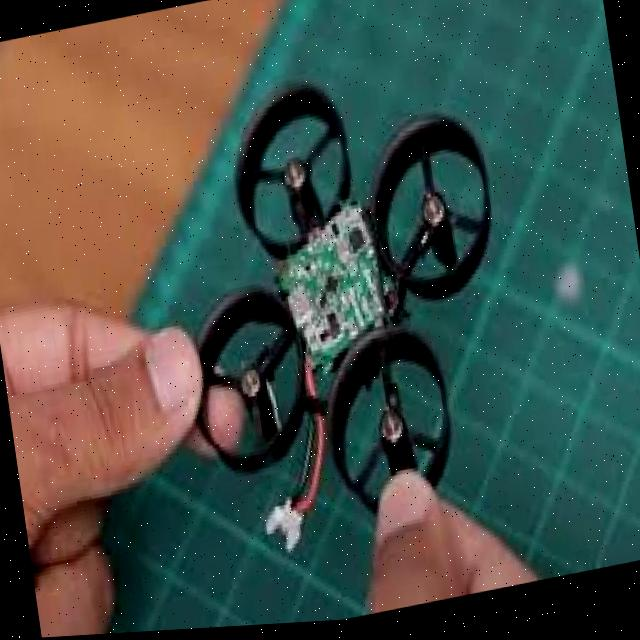drone: (154, 41, 540, 560)
